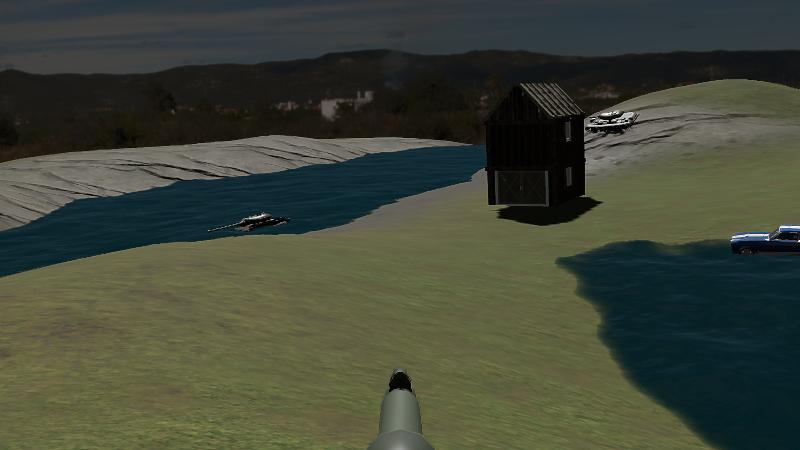House: (483, 77, 588, 213)
Tank: (205, 210, 291, 244), (583, 105, 644, 136)
car: (728, 221, 800, 261)
